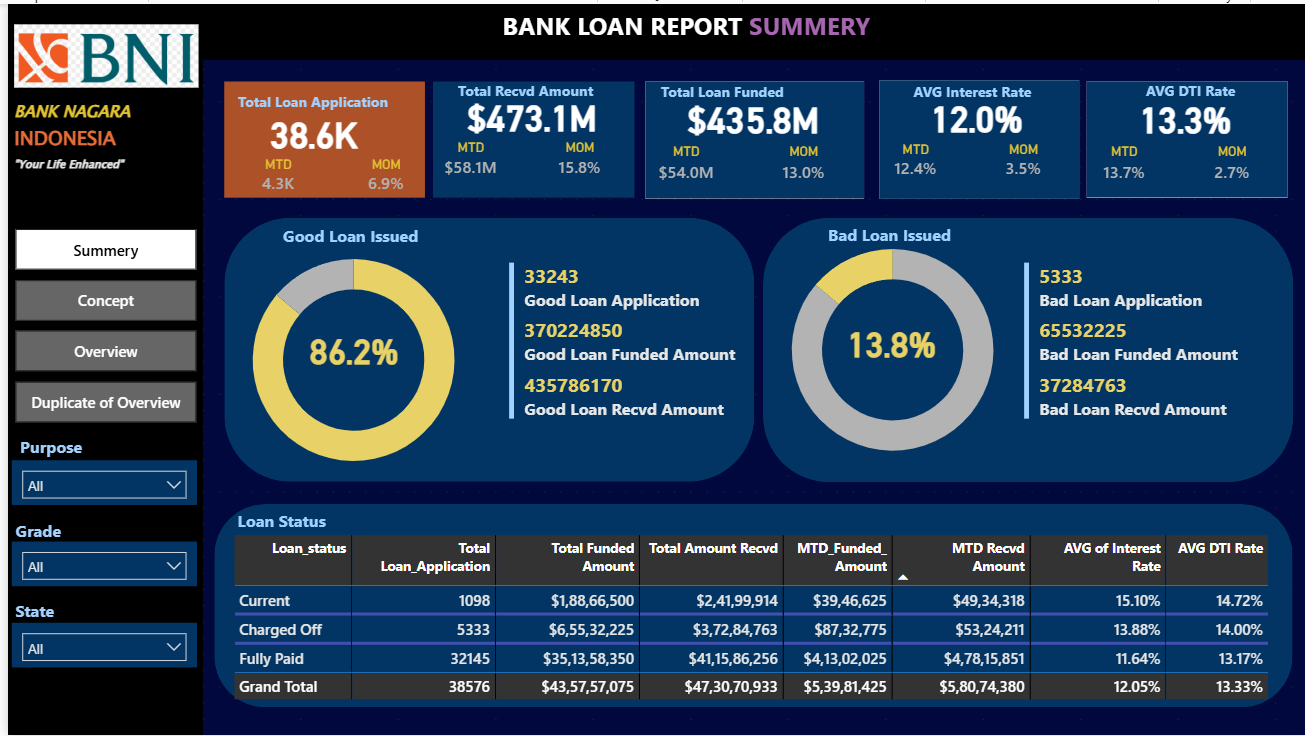

Layout of this report page (visuals, bound fields, positions):
{"tool":"powerbi","page":{"name":"Summery","canvas":[1280,720],"ordinal":0},"visuals":[{"type":"shape","box":[0,0,1280.3,55],"z":0},{"type":"shape","box":[858.1,74.8,197.1,116.8],"z":0,"group":"g4"},{"type":"shape","box":[213,76,197.8,114.6],"z":0,"group":"g3"},{"type":"shape","box":[419.4,76.4,198.6,114.6],"z":0,"group":"g1"},{"type":"shape","box":[1062.4,76.4,197.7,114],"z":0,"group":"g5"},{"type":"shape","box":[628,76.7,215.5,114.9],"z":0,"group":"g2"},{"type":"shape","box":[0,54.9,192.1,665.5],"z":1000},{"type":"card","title":"Total Loan Application","fields":{"Values":["Measure Table.Total Amount Recvd"]},"box":[415.7,86.1,202.4,48.2],"z":1000,"group":"g1"},{"type":"card","title":"Total Loan Application","fields":{"Values":["Measure Table.AVG DTI Rate"]},"box":[1058.7,86.5,201.4,50.9],"z":1000,"group":"g5"},{"type":"card","title":"Total Loan Application","fields":{"Values":["Measure Table.Total Funded Amount"]},"box":[623.9,87,219.6,51.3],"z":1000,"group":"g2"},{"type":"card","title":"Total Loan Application","fields":{"Values":["Measure Table.AVG of int rate"]},"box":[853.7,87.2,201.7,47.9],"z":1000,"group":"g4"},{"type":"card","title":"Total Loan Application","fields":{"Values":["Measure Table.Total Loan_Application"]},"box":[200.7,101.6,201.4,48.2],"z":1000,"group":"g3"},{"type":"textbox","box":[138.6,0,1058,86.4],"z":2000},{"type":"textbox","box":[438.2,70.4,199.9,31.4],"z":2000,"group":"g1"},{"type":"textbox","box":[1103.8,70.4,176.5,33.1],"z":2000,"group":"g5"},{"type":"textbox","box":[626.5,71.6,216.7,34.4],"z":2000,"group":"g2"},{"type":"textbox","box":[876.1,71.6,199.2,31.1],"z":2000,"group":"g4"},{"type":"textbox","box":[221.6,80.8,200.2,31.4],"z":2000,"group":"g3"},{"type":"group","id":"g1","title":"Group 1","box":[393.2,70.4,243.9,120.1],"z":3000},{"type":"card","title":"MTD","fields":{"Values":["Measure Table.MTD Recvd Amount"]},"box":[393.2,134.3,126.2,42.2],"z":3000,"group":"g1"},{"type":"card","title":"MTD","fields":{"Values":["Measure Table.MTD Interest Rate"]},"box":[831.3,135.1,125.7,41.9],"z":3000,"group":"g4"},{"type":"card","title":"MTD","fields":{"Values":["Measure Table.MTD DTI Rate"]},"box":[1036.3,137.5,125.6,44.6],"z":3000,"group":"g5"},{"type":"card","title":"MTD","fields":{"Values":["Measure Table.MTD_Funded_Amount"]},"box":[599.5,138.3,136.9,44.9],"z":3000,"group":"g2"},{"type":"card","title":"MTD","fields":{"Values":["Measure Table.MTD Loan Applications"]},"box":[202.6,150,126.2,42.2],"z":3000,"group":"g3"},{"type":"group","id":"g2","title":"Group 1","box":[599.5,71.6,244,120],"z":4000},{"type":"card","title":"MOM","fields":{"Values":["Measure Table.MOM Recevd Amount %"]},"box":[519.4,134.3,87.4,42.2],"z":4000,"group":"g1"},{"type":"card","title":"MOM","fields":{"Values":["Measure Table.MOM Interest Rate"]},"box":[957,135.1,87.1,41.9],"z":4000,"group":"g4"},{"type":"card","title":"MOM","fields":{"Values":["Measure Table.MOM DTI Rate"]},"box":[1161.9,137.5,87,44.6],"z":4000,"group":"g5"},{"type":"card","title":"MOM","fields":{"Values":["Measure Table.MOM-Funded %"]},"box":[736.4,138.3,94.9,44.9],"z":4000,"group":"g2"},{"type":"card","title":"MOM","fields":{"Values":["Measure Table.MOM loan %"]},"box":[328.8,150,87.4,42.2],"z":4000,"group":"g3"},{"type":"group","id":"g3","title":"Group 1","box":[200.7,76,221.1,116.2],"z":5000},{"type":"group","id":"g4","title":"Group 1","box":[831.3,71.6,243.9,120.1],"z":6000},{"type":"group","id":"g5","title":"Group 1","box":[1036.3,70.4,243.9,120.1],"z":7000},{"type":"shape","box":[213.5,209.8,522,260],"z":8000},{"type":"donutChart","fields":{"Category":["bank_loan_data.Good Loan vs Bad Loan"],"Y":["Measure Table.Total Loan_Application"]},"box":[182,222.1,316.7,258.5],"z":9000},{"type":"shape","box":[742.9,209.8,522.2,260.5],"z":10000},{"type":"card","fields":{"Values":["Measure Table.Good Loan %"]},"box":[214.7,276.2,253.3,129],"z":11000},{"type":"textbox","box":[265.3,212.3,176.1,49.4],"z":12000},{"type":"donutChart","fields":{"Category":["bank_loan_data.Good Loan vs Bad Loan"],"Y":["Measure Table.Total Loan_Application"]},"box":[712.8,212.3,317.2,258.1],"z":13000},{"type":"card","fields":{"Values":["Measure Table.Bad Loan %"]},"box":[742.9,267.7,253.3,129],"z":14000},{"type":"textbox","box":[802,209.8,176.1,49.4],"z":15000},{"type":"multiRowCard","title":"Good Loan Application","fields":{"Values":["Measure Table.Good Loan Application","Measure Table.Good Loan Funded Amount","Measure Table.Good Loan Recvd Amount"]},"box":[488.4,249.6,242.4,182.1],"z":16000},{"type":"shape","box":[202.7,492.7,1061.8,200.2],"z":17000},{"type":"tableEx","fields":{"Values":["bank_loan_data.loan_status","Measure Table.Total Loan_Application","Measure Table.Total Funded Amount","Measure Table.Total Amount Recvd","Measure Table.MTD_Funded_Amount","Measure Table.MTD Recvd Amount","Measure Table.AVG of int rate","Measure Table.AVG DTI Rate"]},"box":[217.2,518.2,1031.5,174.7],"z":18000},{"type":"multiRowCard","title":"Good Loan Application","fields":{"Values":["Measure Table.Bad Loan Application","Measure Table.Bad Loan Funded Amount","Measure Table.Bad Loan Recvd Amount"]},"box":[996.2,249.6,242.4,182.1],"z":19000},{"type":"textbox","box":[217.2,492.7,176,49.8],"z":20000},{"type":"slicer","fields":{"Values":["bank_loan_data.purpose"]},"box":[4,449,182,43.7],"z":21000},{"type":"slicer","fields":{"Values":["bank_loan_data.grade"]},"box":[4,529.1,182,43.7],"z":22000},{"type":"textbox","box":[2.4,419.9,176,49.8],"z":23000},{"type":"textbox","box":[2.4,502.4,176,49.8],"z":24000},{"type":"textbox","box":[2.4,581.3,176,49.8],"z":25000},{"type":"slicer","fields":{"Values":["bank_loan_data.address_state"]},"box":[4,609.2,182,43.7],"z":26000},{"type":"pageNavigator","box":[7.3,222.1,178.4,192.9],"z":27000},{"type":"image","box":[1.2,0,191.7,101.9],"z":28000},{"type":"textbox","box":[1.2,88.6,180.8,88.6],"z":29000}]}

Visuals, with their boxes in screenshot pixels (x1, y1, x2, y2), scaled from the page's 1280x720 canvas onto the 1305x736 screenshot:
shape: {"left": 0, "top": 0, "right": 1304, "bottom": 56}
shape: {"left": 875, "top": 76, "right": 1076, "bottom": 196}
shape: {"left": 217, "top": 78, "right": 419, "bottom": 195}
shape: {"left": 428, "top": 78, "right": 630, "bottom": 195}
shape: {"left": 1083, "top": 78, "right": 1285, "bottom": 195}
shape: {"left": 640, "top": 78, "right": 860, "bottom": 196}
shape: {"left": 0, "top": 56, "right": 196, "bottom": 735}
"Total Loan Application" card: {"left": 424, "top": 88, "right": 630, "bottom": 137}
"Total Loan Application" card: {"left": 1079, "top": 88, "right": 1285, "bottom": 140}
"Total Loan Application" card: {"left": 636, "top": 89, "right": 860, "bottom": 141}
"Total Loan Application" card: {"left": 870, "top": 89, "right": 1076, "bottom": 138}
"Total Loan Application" card: {"left": 205, "top": 104, "right": 410, "bottom": 153}
textbox: {"left": 141, "top": 0, "right": 1220, "bottom": 88}
textbox: {"left": 447, "top": 72, "right": 651, "bottom": 104}
textbox: {"left": 1125, "top": 72, "right": 1304, "bottom": 106}
textbox: {"left": 639, "top": 73, "right": 860, "bottom": 108}
textbox: {"left": 893, "top": 73, "right": 1096, "bottom": 105}
textbox: {"left": 226, "top": 83, "right": 430, "bottom": 115}
"Group 1" group: {"left": 401, "top": 72, "right": 650, "bottom": 195}
"MTD" card: {"left": 401, "top": 137, "right": 530, "bottom": 180}
"MTD" card: {"left": 848, "top": 138, "right": 976, "bottom": 181}
"MTD" card: {"left": 1057, "top": 141, "right": 1185, "bottom": 186}
"MTD" card: {"left": 611, "top": 141, "right": 751, "bottom": 187}
"MTD" card: {"left": 207, "top": 153, "right": 335, "bottom": 196}
"Group 1" group: {"left": 611, "top": 73, "right": 860, "bottom": 196}
"MOM" card: {"left": 530, "top": 137, "right": 619, "bottom": 180}
"MOM" card: {"left": 976, "top": 138, "right": 1064, "bottom": 181}
"MOM" card: {"left": 1185, "top": 141, "right": 1273, "bottom": 186}
"MOM" card: {"left": 751, "top": 141, "right": 848, "bottom": 187}
"MOM" card: {"left": 335, "top": 153, "right": 424, "bottom": 196}
"Group 1" group: {"left": 205, "top": 78, "right": 430, "bottom": 196}
"Group 1" group: {"left": 848, "top": 73, "right": 1096, "bottom": 196}
"Group 1" group: {"left": 1057, "top": 72, "right": 1304, "bottom": 195}
shape: {"left": 218, "top": 214, "right": 750, "bottom": 480}
donutChart - bank_loan_data.Good Loan vs Bad Loan x Measure Table.Total Loan_Application: {"left": 186, "top": 227, "right": 508, "bottom": 491}
shape: {"left": 757, "top": 214, "right": 1290, "bottom": 481}
card - Measure Table.Good Loan %: {"left": 219, "top": 282, "right": 477, "bottom": 414}
textbox: {"left": 270, "top": 217, "right": 450, "bottom": 268}
donutChart - bank_loan_data.Good Loan vs Bad Loan x Measure Table.Total Loan_Application: {"left": 727, "top": 217, "right": 1050, "bottom": 481}
card - Measure Table.Bad Loan %: {"left": 757, "top": 274, "right": 1016, "bottom": 406}
textbox: {"left": 818, "top": 214, "right": 997, "bottom": 265}
"Good Loan Application" multiRowCard: {"left": 498, "top": 255, "right": 745, "bottom": 441}
shape: {"left": 207, "top": 504, "right": 1289, "bottom": 708}
tableEx - bank_loan_data.loan_status x Measure Table.Total Loan_Application: {"left": 221, "top": 530, "right": 1273, "bottom": 708}
"Good Loan Application" multiRowCard: {"left": 1016, "top": 255, "right": 1263, "bottom": 441}
textbox: {"left": 221, "top": 504, "right": 401, "bottom": 555}
slicer - bank_loan_data.purpose: {"left": 4, "top": 459, "right": 190, "bottom": 504}
slicer - bank_loan_data.grade: {"left": 4, "top": 541, "right": 190, "bottom": 586}
textbox: {"left": 2, "top": 429, "right": 182, "bottom": 480}
textbox: {"left": 2, "top": 514, "right": 182, "bottom": 564}
textbox: {"left": 2, "top": 594, "right": 182, "bottom": 645}
slicer - bank_loan_data.address_state: {"left": 4, "top": 623, "right": 190, "bottom": 667}
pageNavigator: {"left": 7, "top": 227, "right": 189, "bottom": 424}
image: {"left": 1, "top": 0, "right": 197, "bottom": 104}
textbox: {"left": 1, "top": 91, "right": 186, "bottom": 181}
